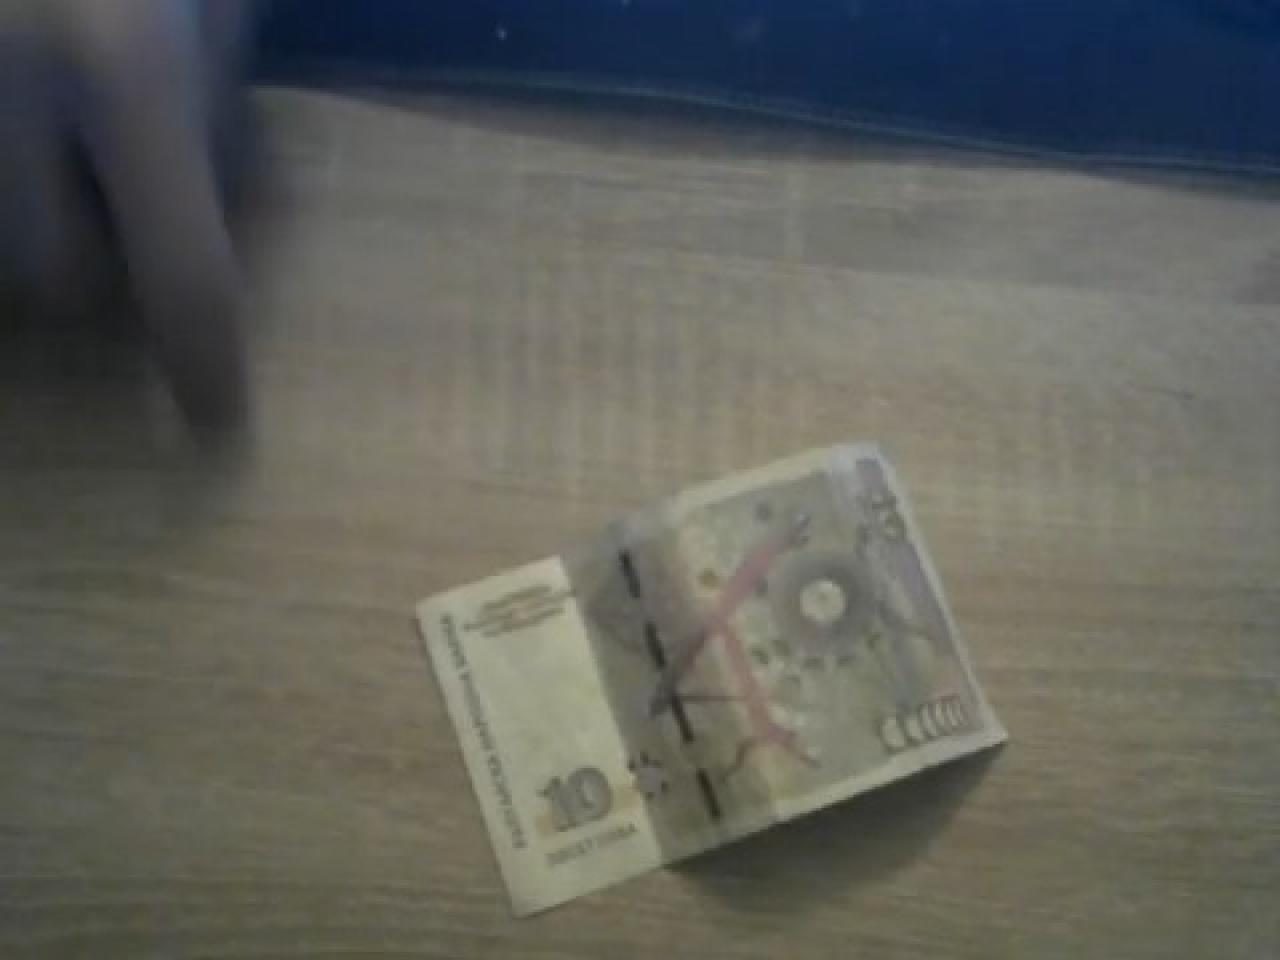10leva: (413, 443, 1008, 920)
